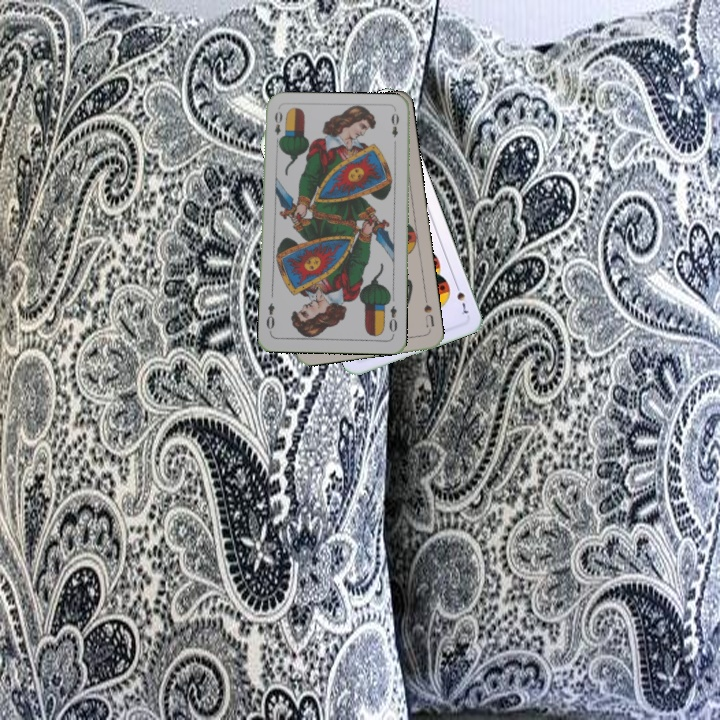EO: (270, 107, 285, 147), (385, 302, 400, 338)
S7: (451, 279, 470, 317)
SU: (420, 293, 437, 333)
